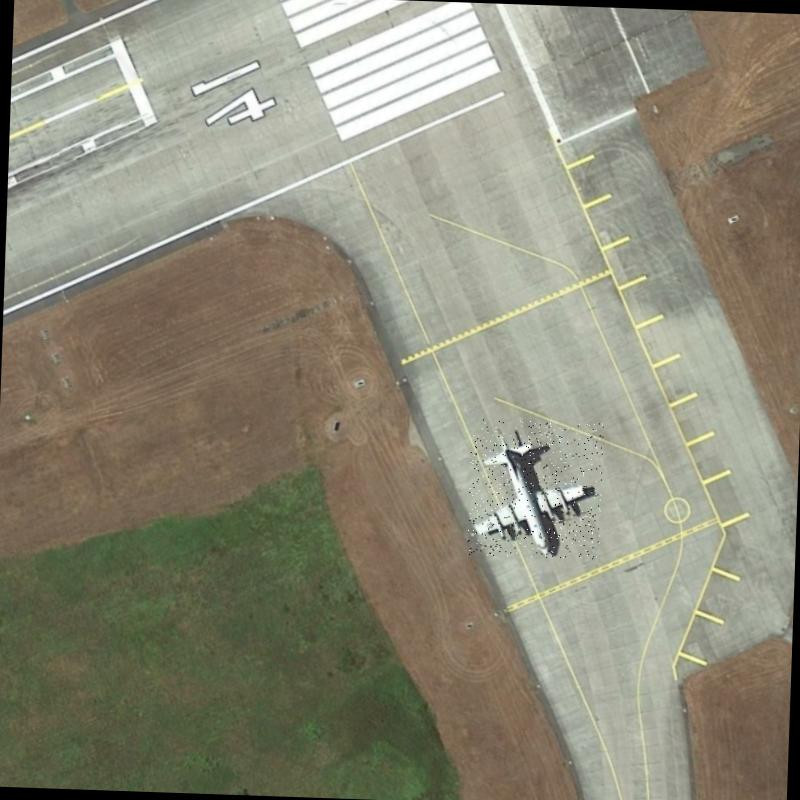A9: (466, 418, 604, 560)
